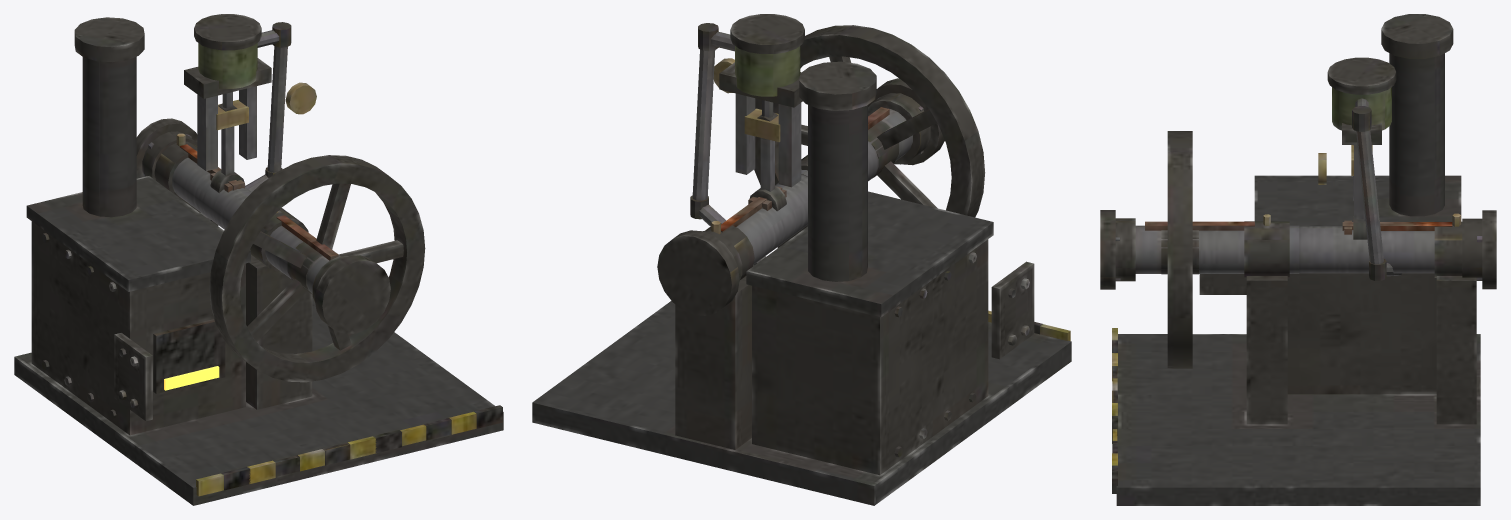
File: feCoalEngine.glb
3 views of the same model, side by side, from view 1: azimuth 30°, elevation 25°; view 2: azimuth 150°, elevation 25°; view 3: azimuth 270°, elevation 25° (orthographic). The views are drawn at different scales.
Visible parts, largest first — view 1: feCoalEngine_Base, FeSpin_EngineCrank, FeConrod_1, FeCrosshead_1; view 2: feCoalEngine_Base, FeSpin_EngineCrank, FeConrod_1, FeCrosshead_1; view 3: feCoalEngine_Base, FeSpin_EngineCrank.
Boxes of the visible parts, box(x1,y1,x2,y2) form: feCoalEngine_Base: box(14, 14, 503, 505); FeSpin_EngineCrank: box(136, 118, 425, 382); FeConrod_1: box(210, 103, 245, 192); FeCrosshead_1: box(216, 92, 248, 130); feCoalEngine_Base: box(532, 14, 1071, 505); FeSpin_EngineCrank: box(657, 25, 985, 315); FeConrod_1: box(749, 112, 786, 211); FeCrosshead_1: box(744, 100, 780, 142); feCoalEngine_Base: box(1112, 14, 1480, 505); FeSpin_EngineCrank: box(1100, 131, 1496, 368).
Bounding box in the file's own units: 0.952 × 0.9974 × 1.
Materials: 2 (1 with a texture image).
